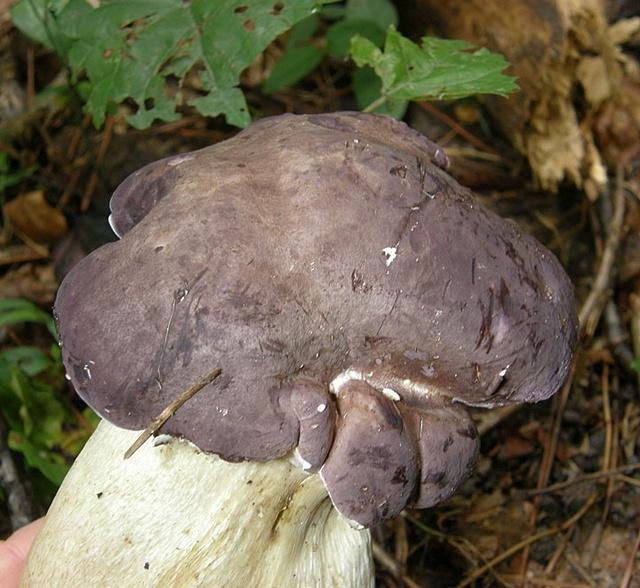poisonous_mushroom: (18, 107, 580, 585)
